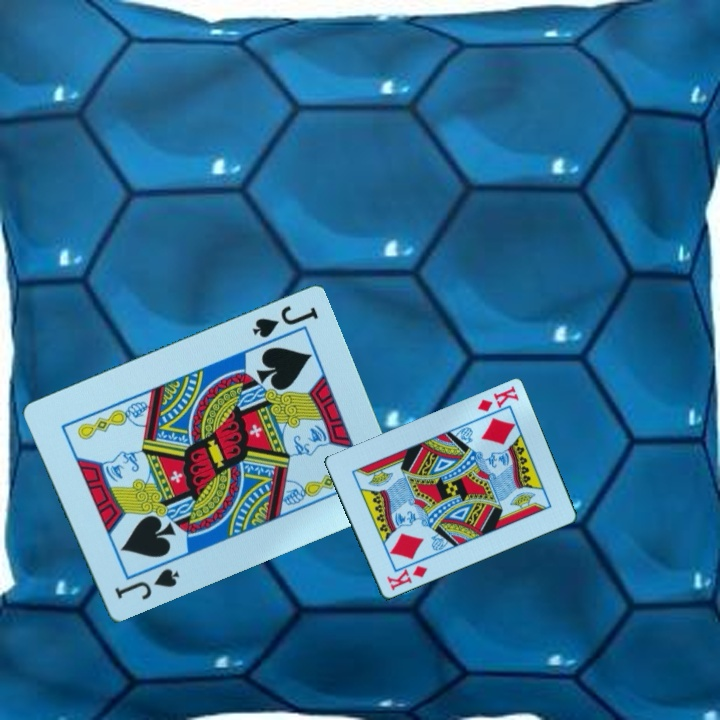Js: (248, 302, 321, 342), (111, 565, 182, 604)
Kd: (383, 562, 430, 594), (474, 383, 521, 415)
